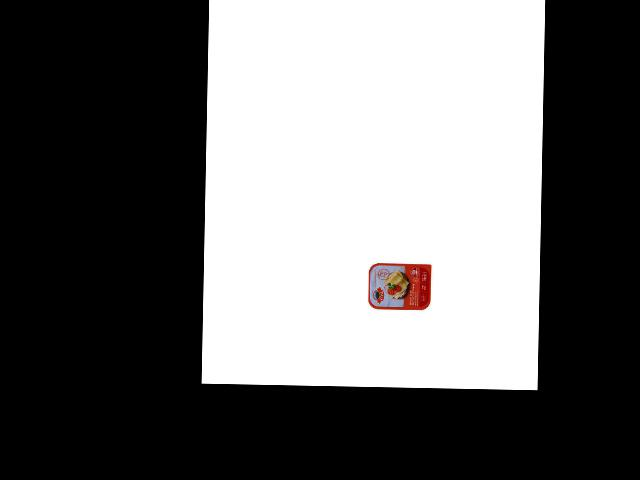cheese: (366, 262, 435, 313)
